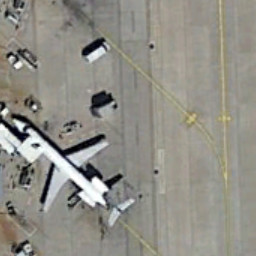Airplane: (5, 108, 143, 235)
